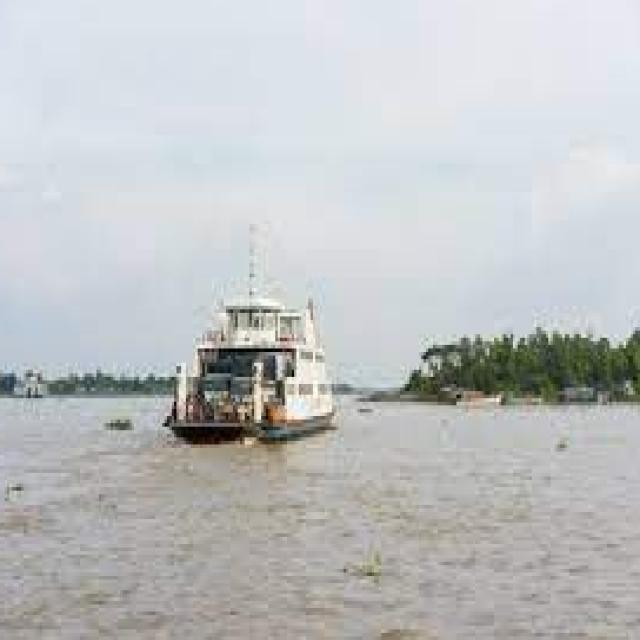houseboat: (170, 274, 363, 441)
